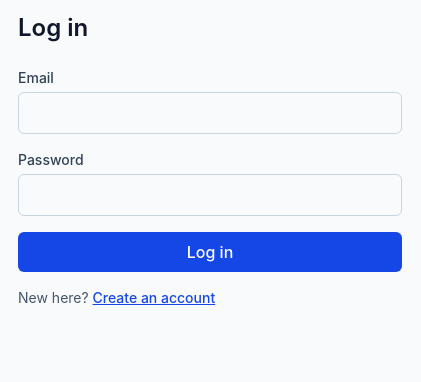
Test: LoginPage › shows the generic error for wrong credentials and keeps the email
The width and height of the screenshot is (421, 382).
Type "asha@example.com" into the field labelled "Email" at [210, 113], box [18,92,402,134]
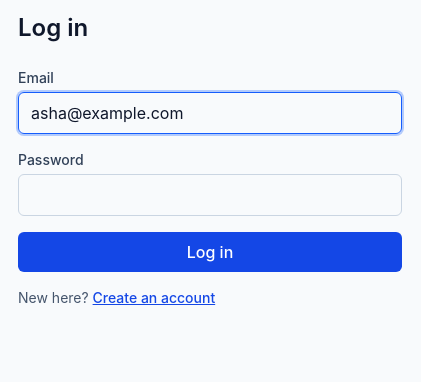
Type "wrong-pass" into the password field labelled "Password" at [210, 195], box [18,174,402,216]
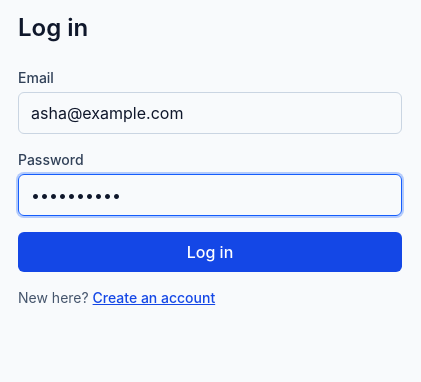
Click the button "Log in" at [210, 252], box [18,232,402,272]
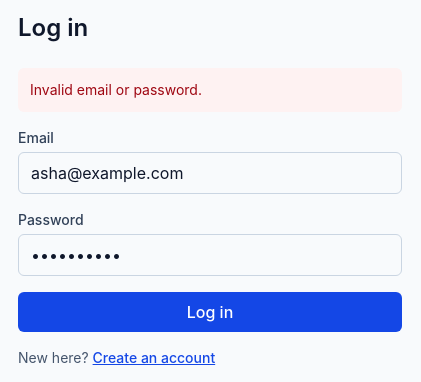
Result: the message reads "Invalid email or password." at [30,81,202,98]
